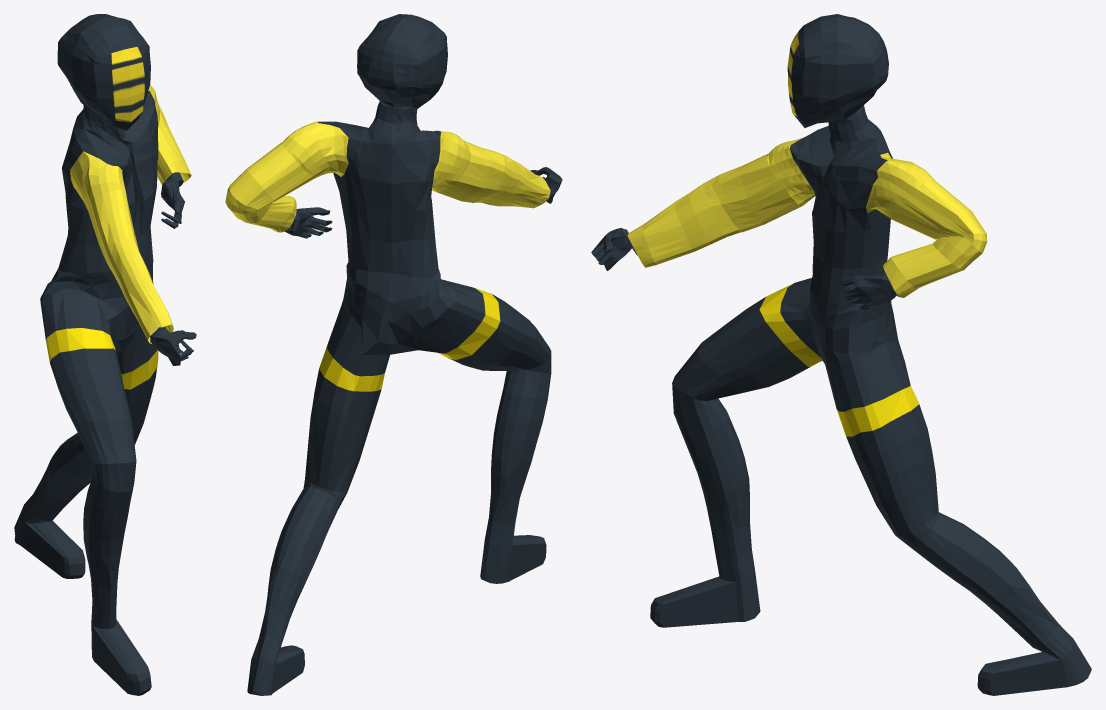
Rendered from Sentry_WL_000025.obj.
3 views of the same model, side by side, from view 1: azimuth 30°, elevation 25°; view 2: azimuth 150°, elevation 25°; view 3: azimuth 270°, elevation 25° (orthographic). The views are drawn at different scales.
Parts seen in each view (by area): view 1: Cube; view 2: Cube; view 3: Cube.
Part boxes in pixels (<box>): Cube: <box>14,14,196,695</box>; Cube: <box>225,14,562,695</box>; Cube: <box>591,14,1091,695</box>.
Bounding box in the file's own units: 1.2 × 3.61 × 2.51.
